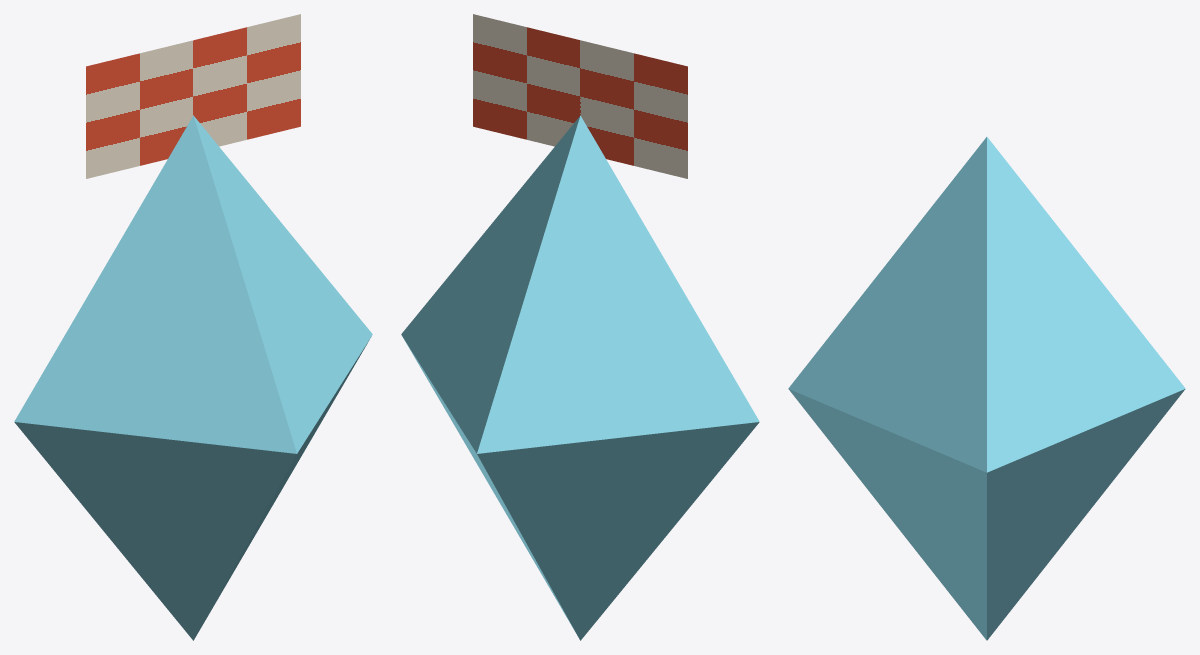
The model's file is gem.glb.
3 views of the same model, side by side, from view 1: azimuth 30°, elevation 25°; view 2: azimuth 150°, elevation 25°; view 3: azimuth 270°, elevation 25° (orthographic). The views are drawn at different scales.
Visible parts, largest first — view 1: octahedron, plate; view 2: octahedron, plate; view 3: octahedron.
Boxes of the visible parts, x1,y1,x2,y2 form: octahedron: (14,115,372,640); plate: (86,14,300,178); octahedron: (401,115,759,640); plate: (473,14,687,178); octahedron: (788,137,1185,640).
Size of the model in its own units: 2 by 3.2 by 2.
Materials: 2 (1 with a texture image).
